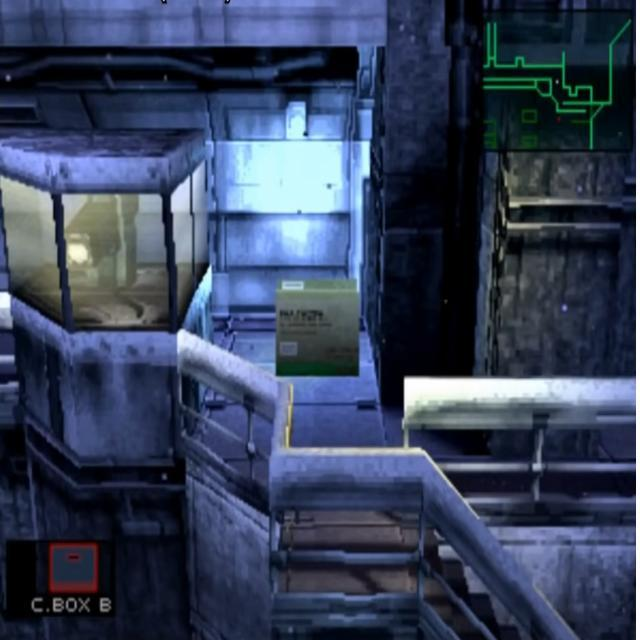snake-in-cardboard-boxes: (274, 275, 362, 382)
